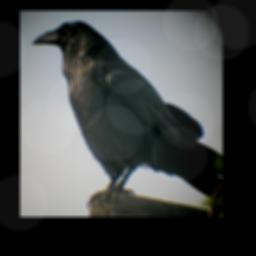Crow: (31, 19, 223, 208)
